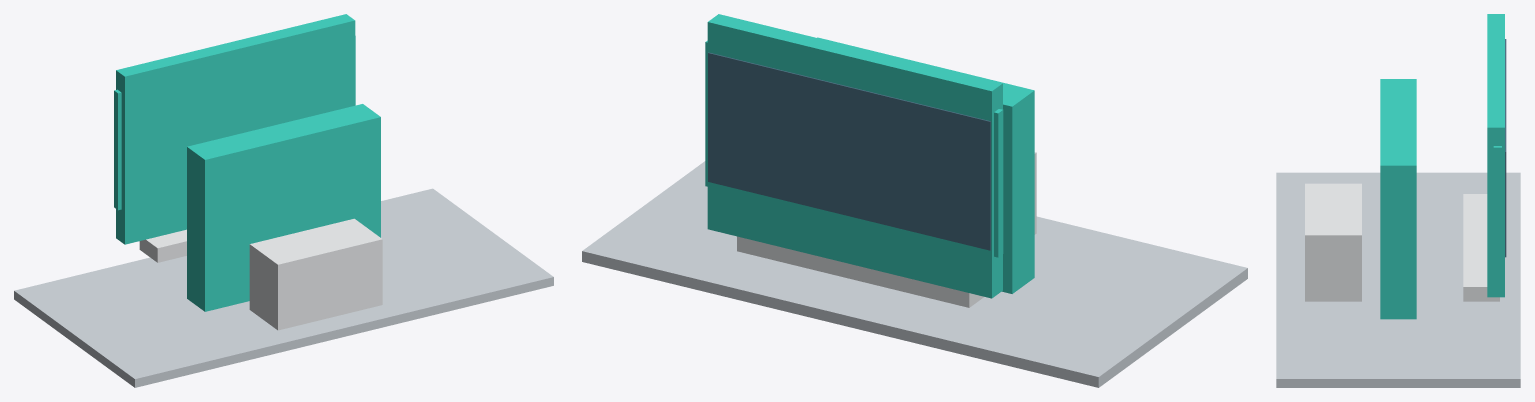
3 renders of one model, left to right at view 1: azimuth 30°, elevation 25°; view 2: azimuth 150°, elevation 25°; view 3: azimuth 270°, elevation 25°, orthographic. The views are drawn at different scales.
Parts seen in each view (by area): view 1: Exhibition Booth Concept; view 2: Exhibition Booth Concept; view 3: Exhibition Booth Concept.
Part boxes in pixels (bbox=[...]): Exhibition Booth Concept: bbox=[14, 14, 553, 387]; Exhibition Booth Concept: bbox=[582, 14, 1247, 387]; Exhibition Booth Concept: bbox=[1276, 14, 1520, 387].
Size of the model in its own units: 6 by 2.9 by 3.
